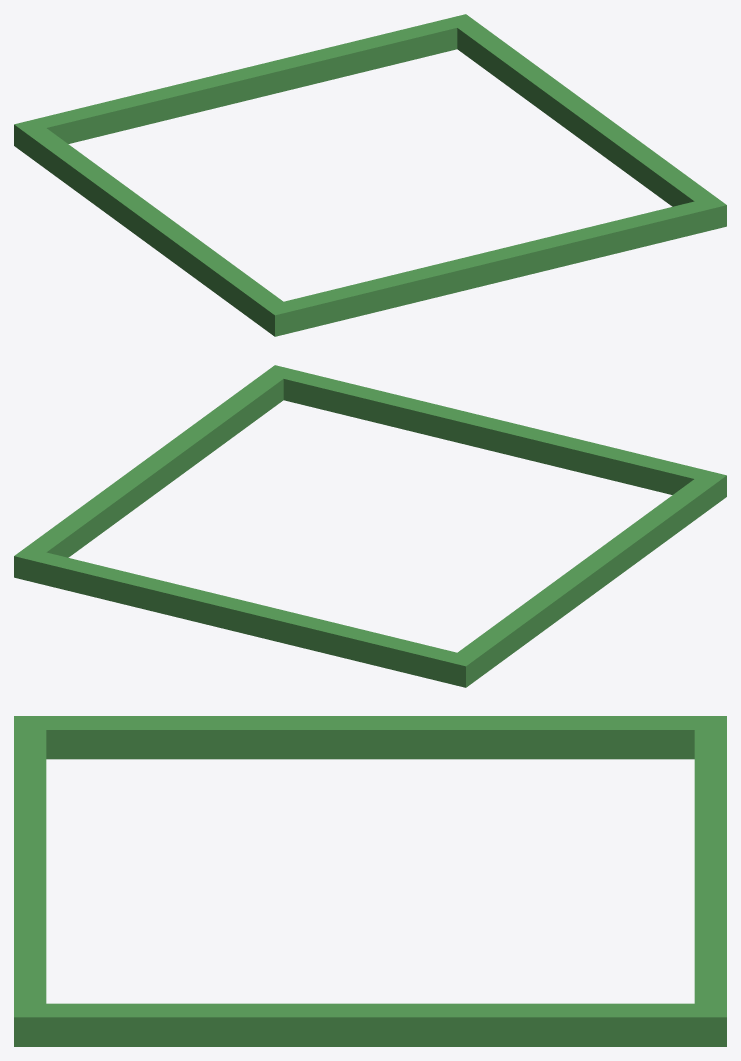
File: boundary.obj
The picture shows the model from 3 angles, top to bottom: view 1: azimuth 30°, elevation 25°; view 2: azimuth 150°, elevation 25°; view 3: azimuth 270°, elevation 25°; orthographic projection. The views are drawn at different scales.
Visible parts, largest first — view 1: Plane; view 2: Plane; view 3: Plane.
Boxes of the visible parts, x1,y1,x2,y2 form: Plane: (14, 14, 726, 336); Plane: (14, 365, 726, 687); Plane: (14, 716, 726, 1046).
Size of the model in its own units: 2.2 by 0.1 by 2.2.
Materials: 1 (1 with a texture image).
